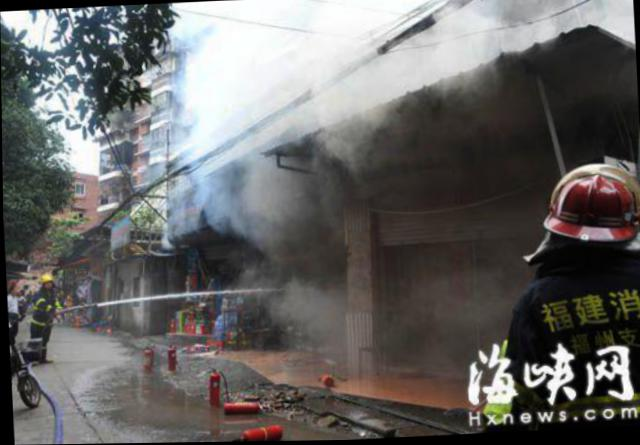smoke: (297, 50, 403, 165), (188, 174, 320, 248), (412, 9, 499, 98), (255, 275, 338, 359)
